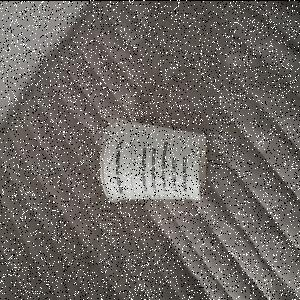Cup: (100, 114, 208, 204)
